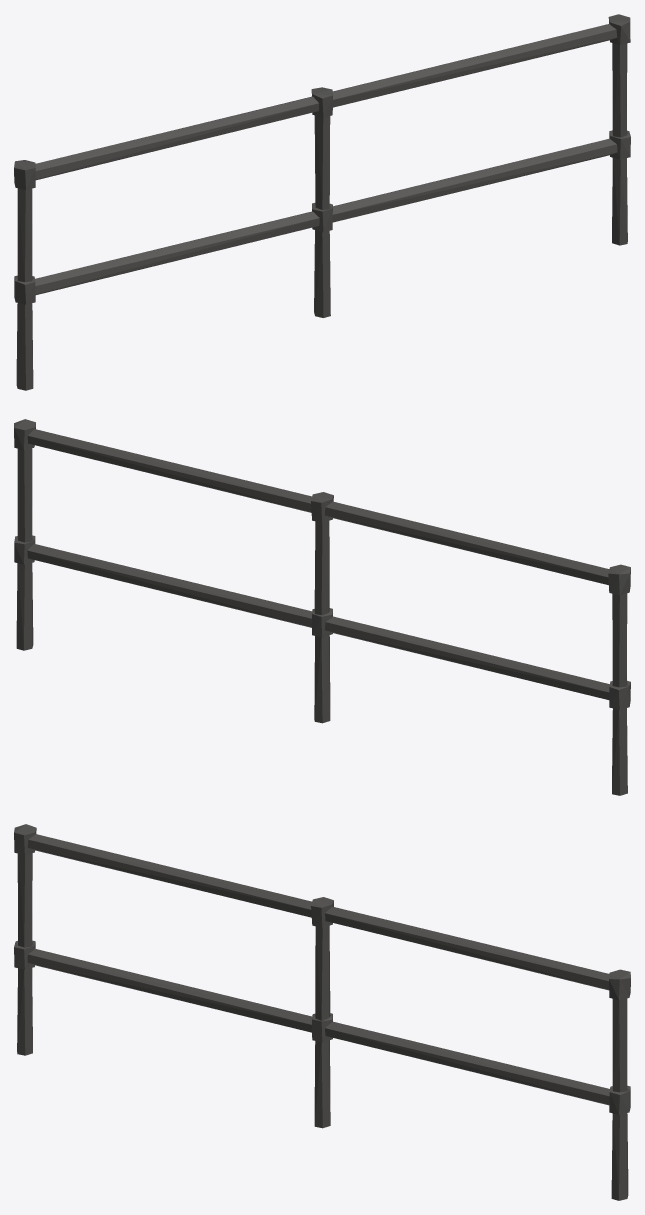
Rendered from fence5.fbx.
The picture shows the model from 3 angles, top to bottom: view 1: azimuth 30°, elevation 25°; view 2: azimuth 150°, elevation 25°; view 3: azimuth 330°, elevation 25°; orthographic projection.
Parts seen in each view (by area): view 1: mesh; view 2: mesh; view 3: mesh.
Part boxes in pixels (bbox=[...]): mesh: bbox=[14, 14, 630, 390]; mesh: bbox=[14, 419, 630, 795]; mesh: bbox=[14, 824, 630, 1200].
Size of the model in its own units: 284 by 98.13 by 9.59.
